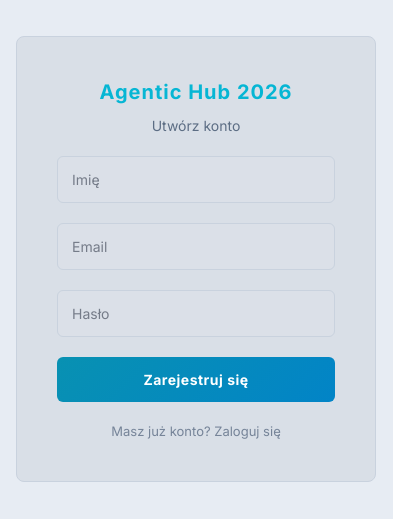
Test case: shows error on failed registration
Type "Jan" into the field with placeholder "Imię" at [196, 179], box top-left (57, 156), bottom-right (335, 203)
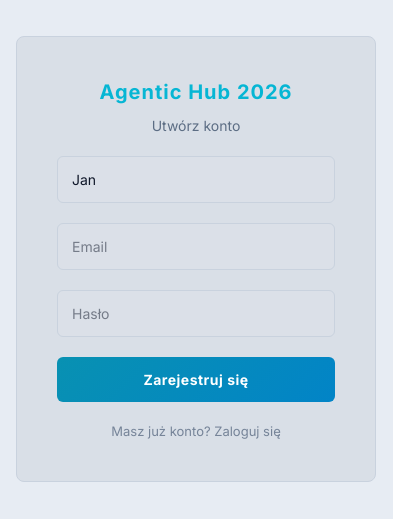
Type "jan@test.com" into the field with placeholder "Email" at [196, 246], box top-left (57, 223), bottom-right (335, 270)
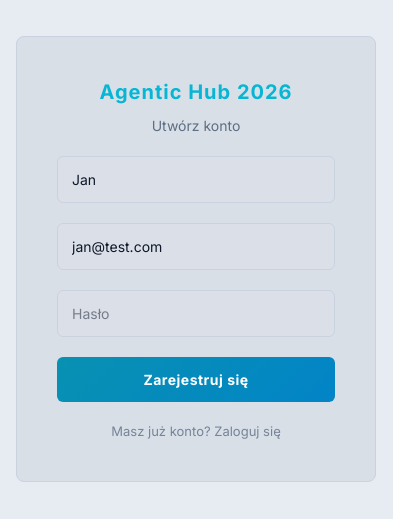
Type "secure123" into the password field with placeholder "Hasło" at [196, 313], box top-left (57, 290), bottom-right (335, 337)
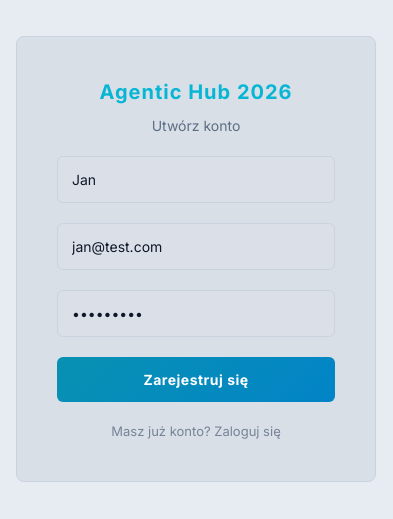
Click the button "Zarejestruj się" at [196, 379], box top-left (57, 357), bottom-right (335, 402)
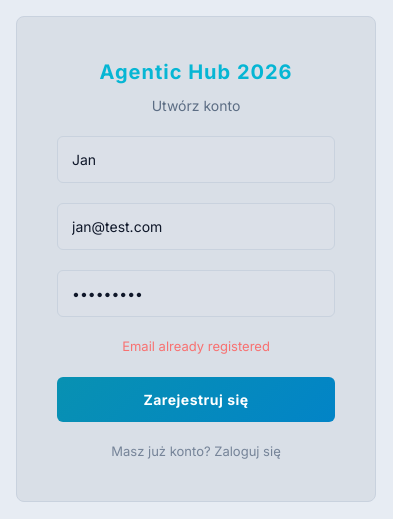
Expected: the text "Email already registered" is shown, top-left (122, 338), bottom-right (270, 354)
